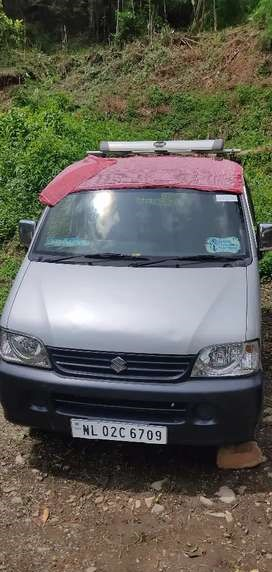NL02C6709: (69, 418, 167, 446)
